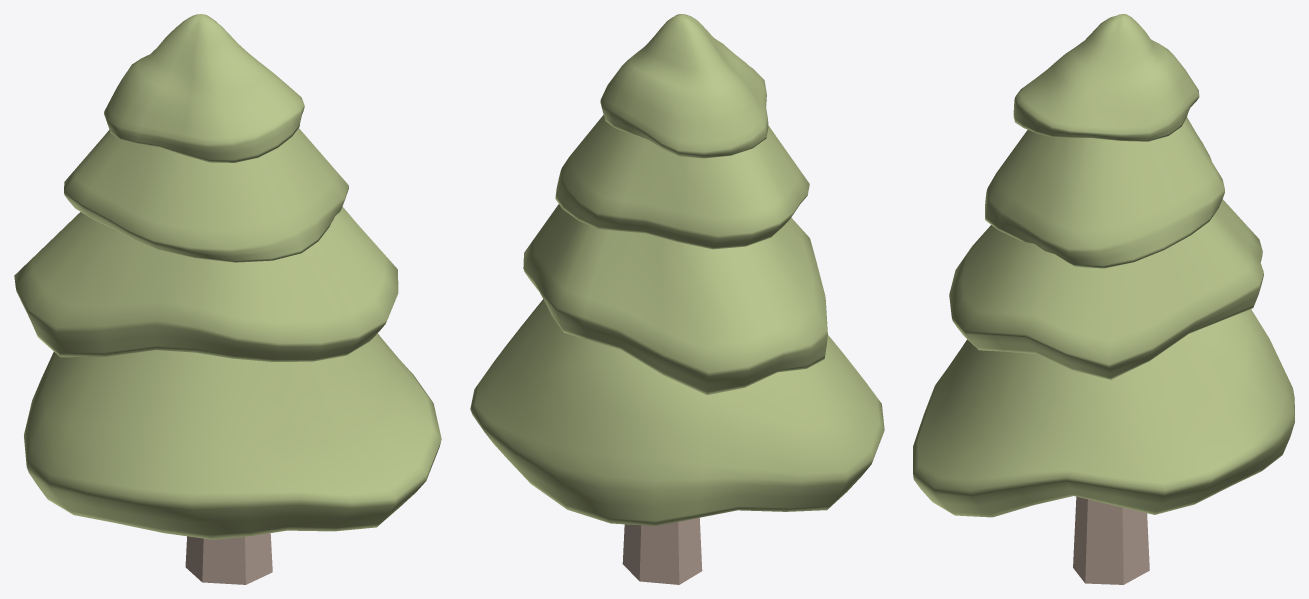
Rendered from tree-conifer.glb.
The picture shows the model from 3 angles, left to right: view 1: azimuth 30°, elevation 25°; view 2: azimuth 150°, elevation 25°; view 3: azimuth 270°, elevation 25°; orthographic projection. The views are drawn at different scales.
Parts seen in each view (by area): view 1: Cylinder 3, Cylinder 7, Cylinder 8, Cylinder 9, Cylinder 4; view 2: Cylinder 3, Cylinder 7, Cylinder 8, Cylinder 9, Cylinder 4; view 3: Cylinder 3, Cylinder 7, Cylinder 8, Cylinder 9, Cylinder 4.
Boxes of the visible parts, <box> form: Cylinder 3: <box>24,333,441,539</box>; Cylinder 7: <box>14,206,398,361</box>; Cylinder 8: <box>64,128,348,262</box>; Cylinder 9: <box>104,14,304,162</box>; Cylinder 4: <box>185,533,272,584</box>; Cylinder 3: <box>470,299,884,525</box>; Cylinder 7: <box>523,204,827,395</box>; Cylinder 8: <box>555,115,809,249</box>; Cylinder 9: <box>600,14,768,158</box>; Cylinder 4: <box>622,517,702,584</box>; Cylinder 3: <box>913,309,1294,517</box>; Cylinder 7: <box>949,199,1263,379</box>; Cylinder 8: <box>985,117,1224,268</box>; Cylinder 9: <box>1013,14,1199,141</box>; Cylinder 4: <box>1073,496,1149,584</box>.
Size of the model in its own units: 7.09 by 10.52 by 6.7.
